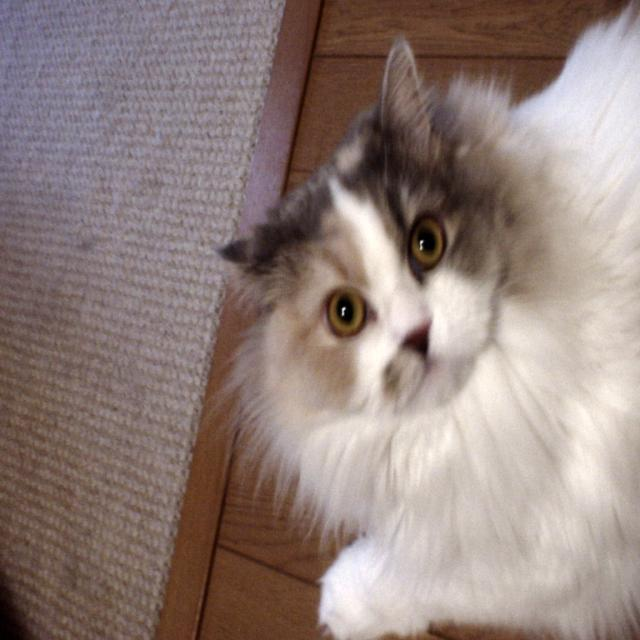Cat: (203, 0, 639, 639)
